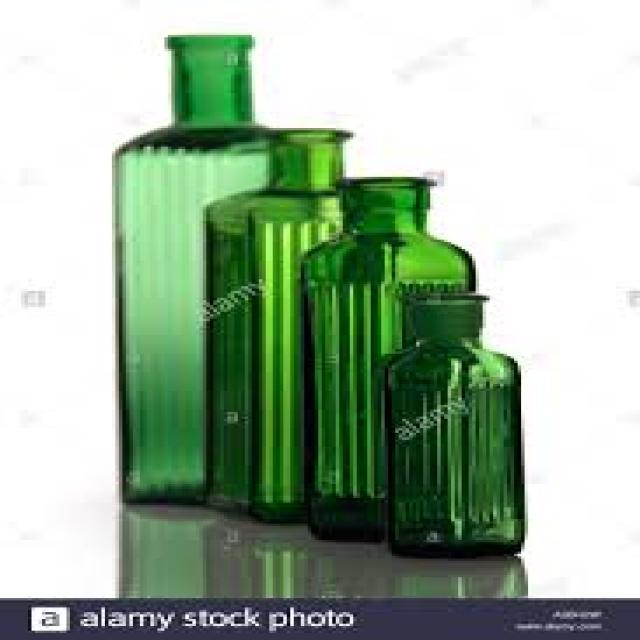glass: (108, 35, 287, 500), (297, 175, 472, 538), (199, 128, 357, 521), (374, 289, 521, 556)
